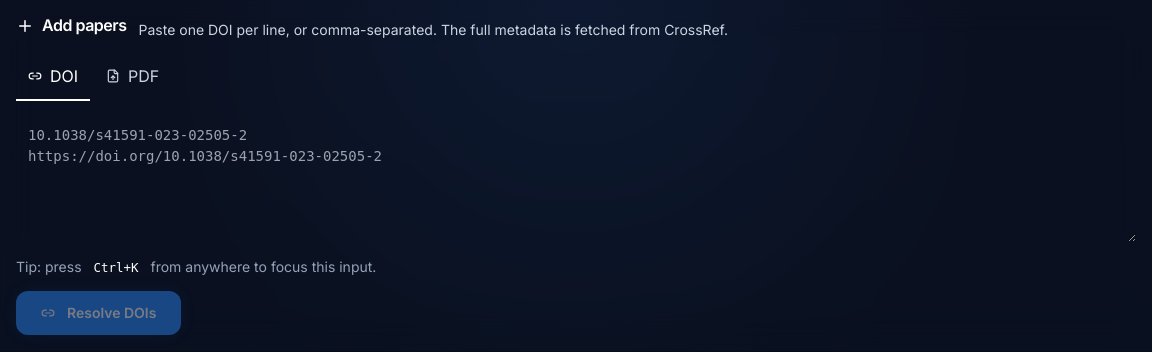
Test case: AddPapersPanel › PDF tab › renders a drop zone with a hidden file input
The width and height of the screenshot is (1152, 352).
Click the tab "PDF".
click(133, 77)  # box x1=94 y1=54 x2=171 y2=101
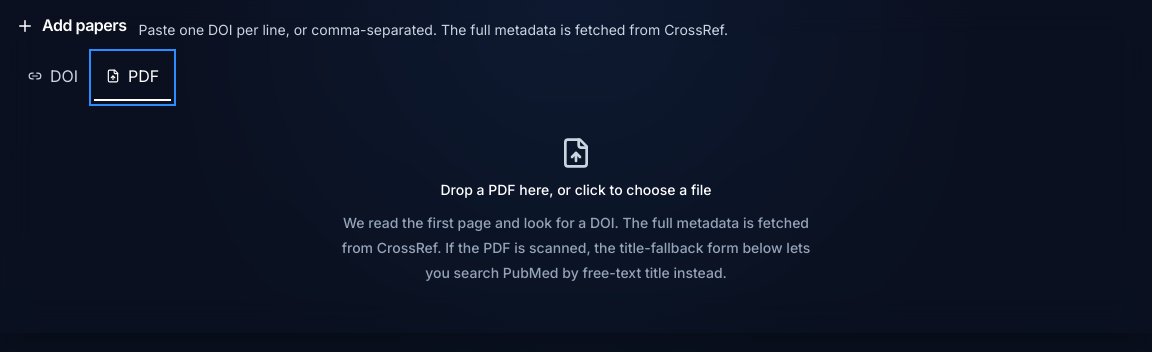
Now the file field labelled "Drop a PDF here" is shown, box x1=342 y1=137 x2=810 y2=281
